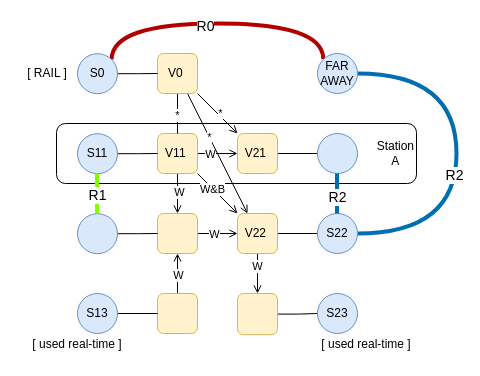
Image size: 480x376. Some labels were removed from this diagram. Each missing label, with the box of its shape:
S12: (76, 213, 118, 254)
S21: (316, 132, 358, 174)
V12: (156, 212, 198, 254)
V13: (156, 292, 198, 334)
V23: (236, 292, 278, 335)
